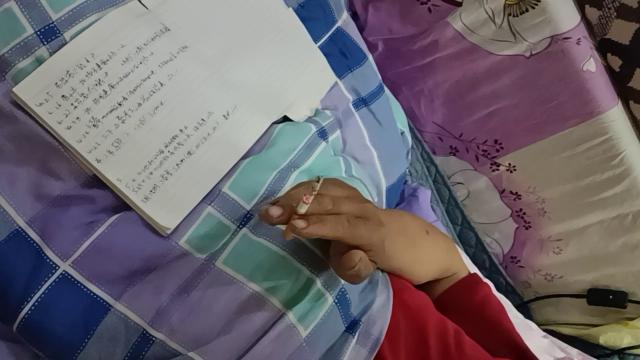Cigarette: (282, 174, 324, 241)
